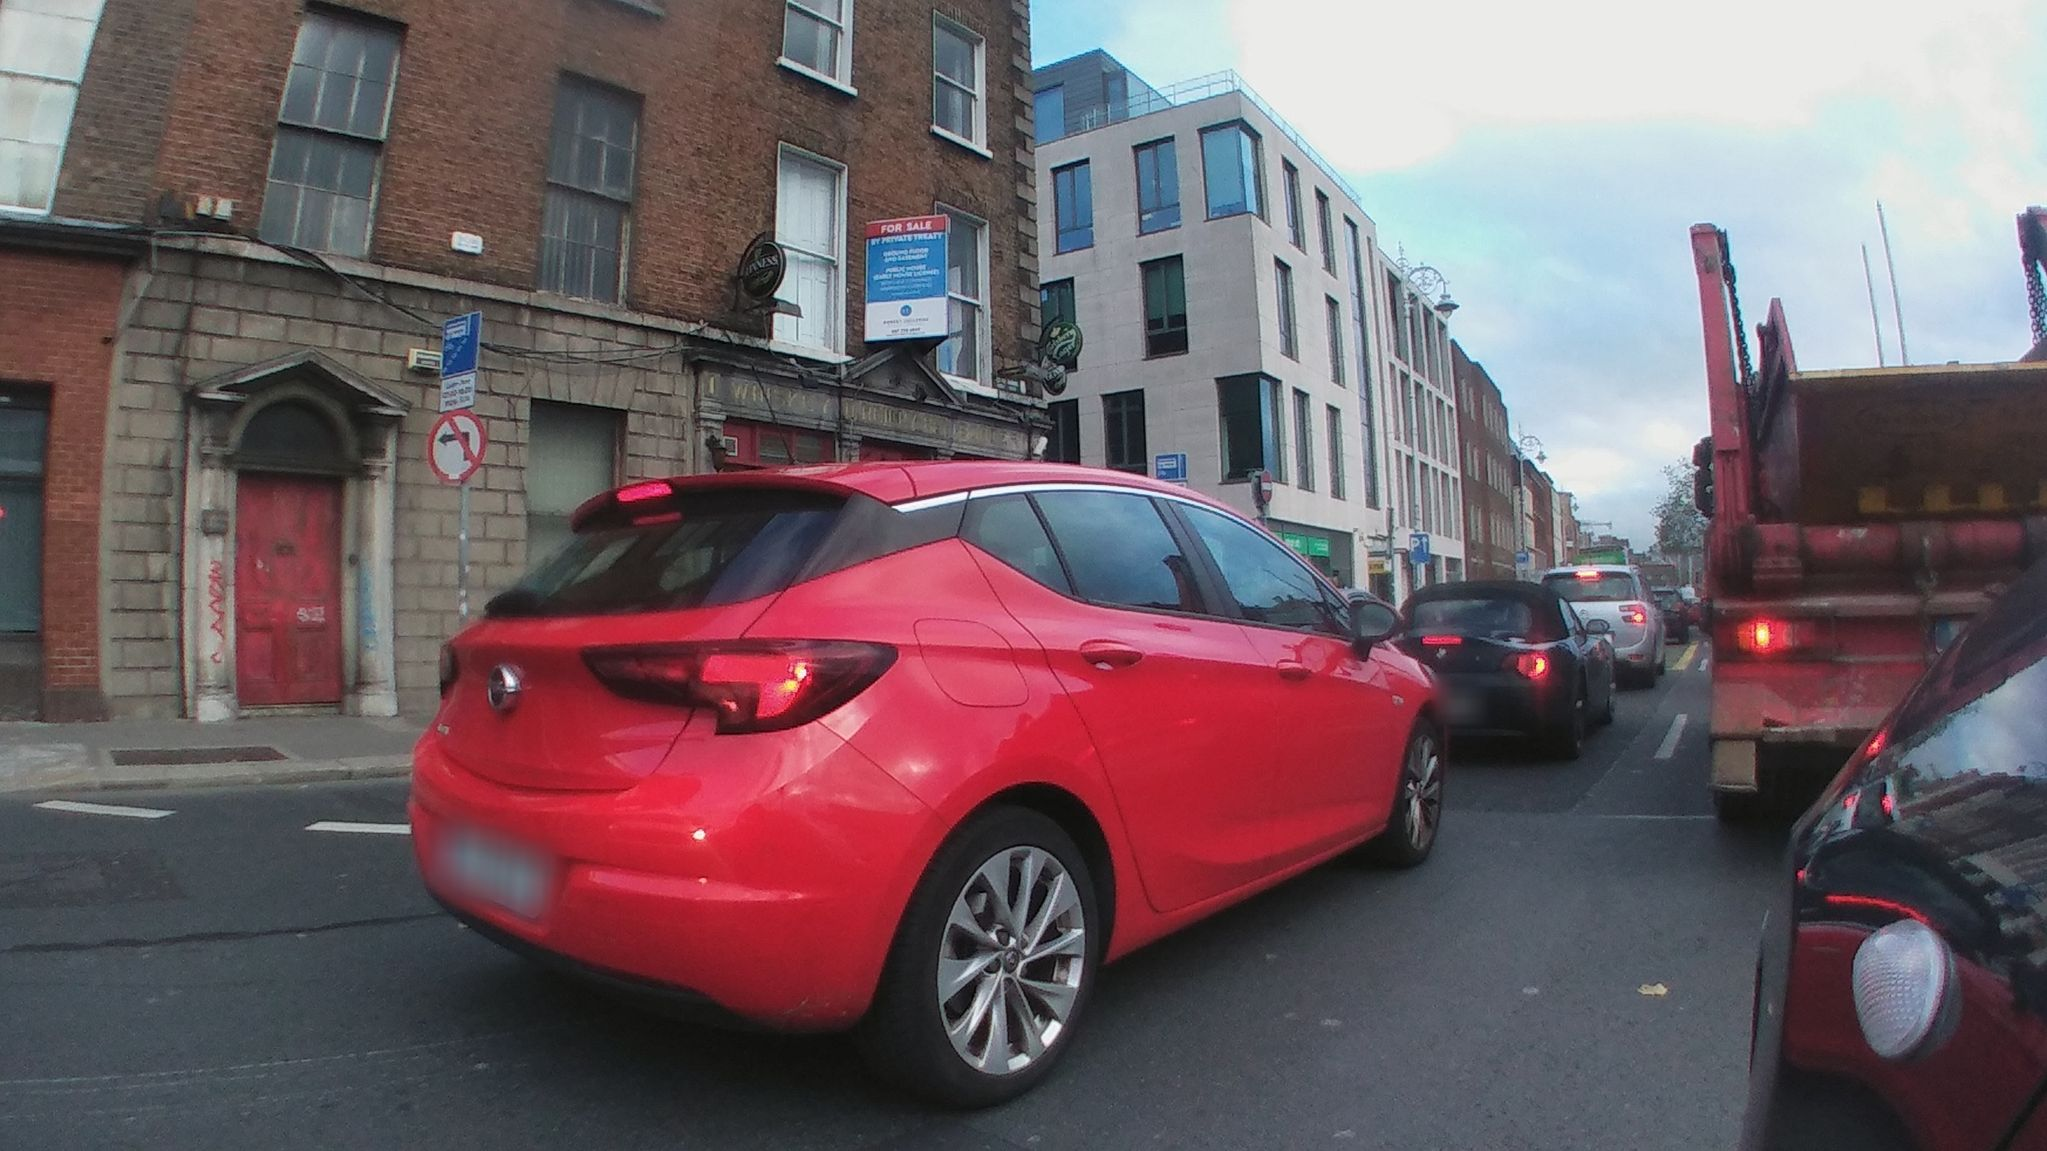property sign: (859, 207, 957, 363)
